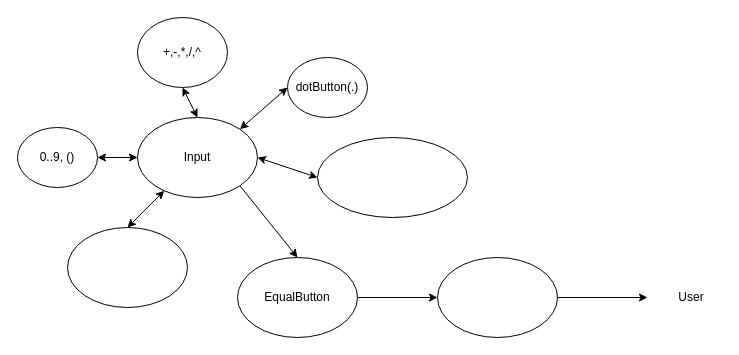
Some shapes in this 739 by 355 pixel diagram are drawn without their labels. The centre of each missing label's shape, as x and y in pixels:
"ClearButton onClick: 1 char onLongClick: clearAll" goes at (x=392, y=177).
"Output" goes at (x=497, y=297).
"sin, cos, tan, asin, acos, atan ln, log2, lg, sqrt, fact, |x|, x^y" goes at (x=127, y=267).
